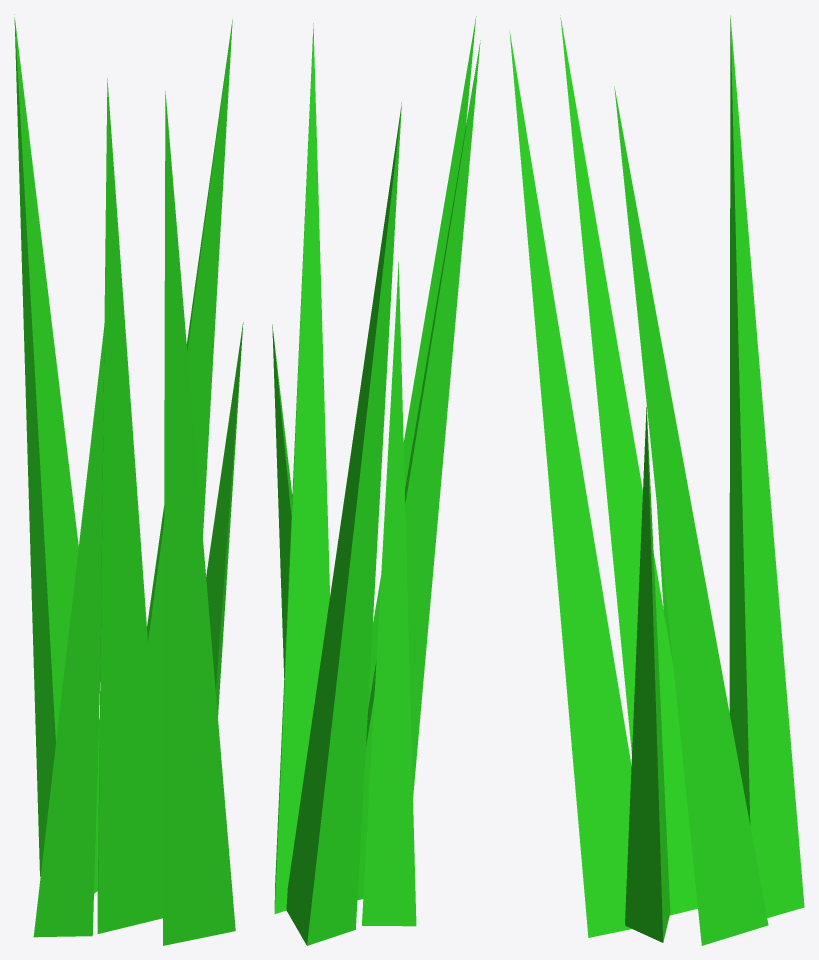
Rendered from low_poly_grass.obj.
The picture shows the model from 3 angles, left to right: view 1: azimuth 30°, elevation 25°; view 2: azimuth 150°, elevation 25°; view 3: azimuth 270°, elevation 25°; orthographic projection. The views are drawn at different scales.
Parts seen in each view (by area): view 1: Cone; view 2: Cone; view 3: Cone.
Part boxes in pixels (left/top/right/bottom): Cone: left=14, top=14, right=243, bottom=945; Cone: left=272, top=16, right=480, bottom=945; Cone: left=509, top=15, right=804, bottom=945.
Bounding box in the file's own units: 0.4305 × 2.05 × 0.6241.
